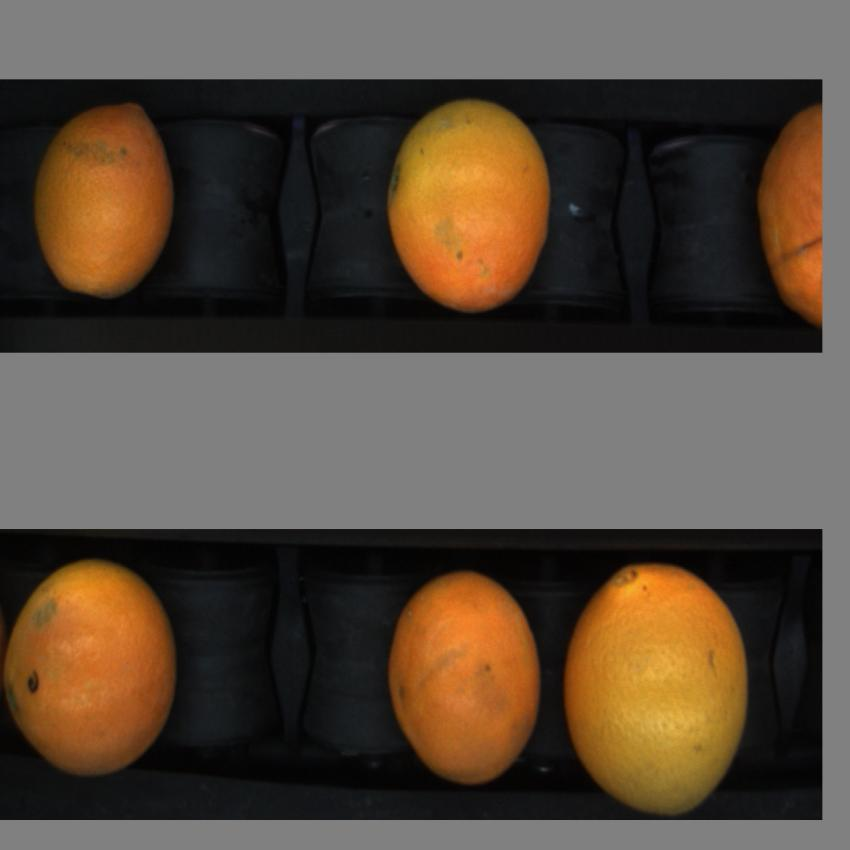Buen estado: (557, 561, 763, 820), (3, 558, 189, 787), (379, 562, 547, 798), (384, 93, 558, 314), (26, 94, 180, 310)
Mal estado: (751, 98, 823, 332)
